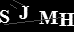H: (58, 12, 74, 27)
M: (37, 10, 58, 25)
S: (18, 5, 30, 20), (1, 9, 10, 24)
